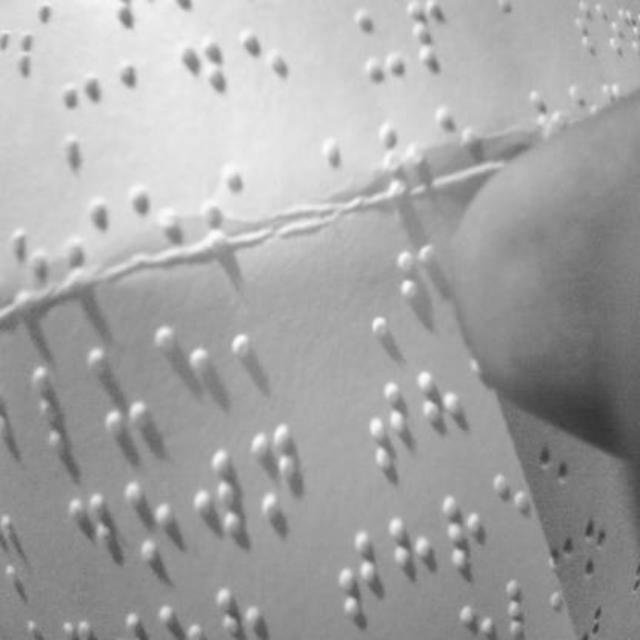braiile: (87, 344, 153, 438), (156, 315, 214, 419), (195, 447, 248, 557), (250, 424, 304, 530), (64, 488, 120, 590), (328, 522, 382, 626), (120, 474, 176, 572), (32, 359, 90, 451), (178, 32, 230, 134), (237, 28, 289, 128), (360, 380, 416, 472), (387, 510, 437, 610), (118, 54, 166, 152), (417, 366, 467, 460), (354, 5, 408, 91), (233, 303, 285, 392), (408, 0, 456, 90), (58, 72, 104, 165), (442, 492, 490, 578)
